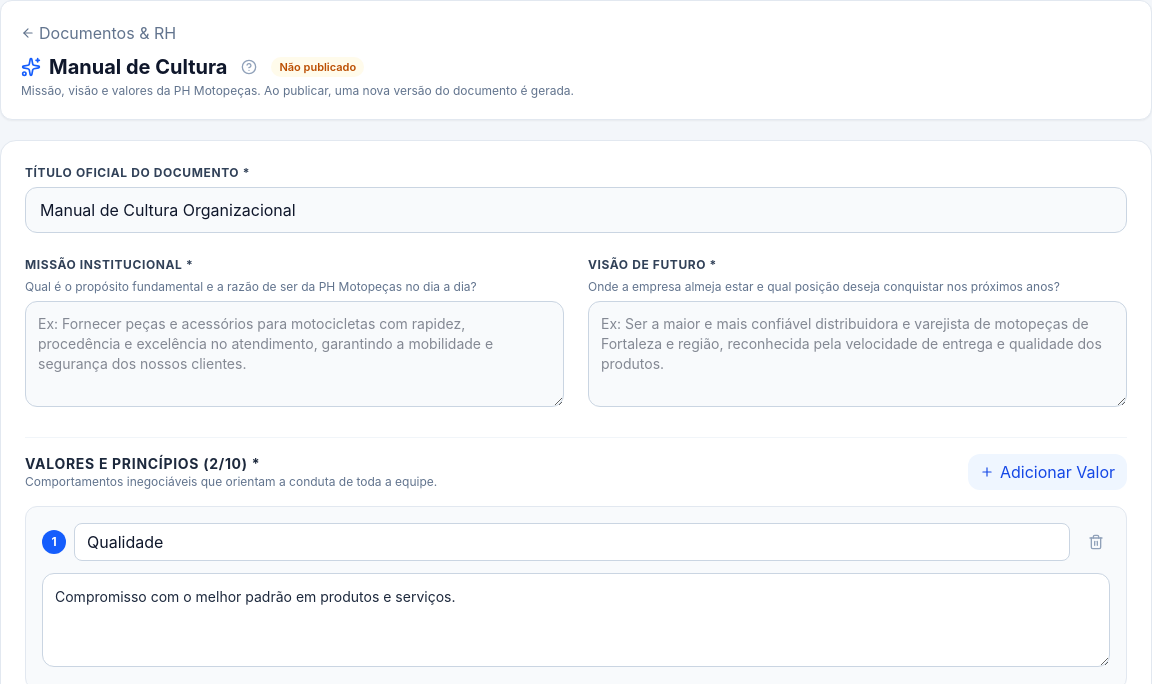
CultureDocumentPage › allows adding and removing institutional values in the form
The image size is (1152, 684).
Expected: the heading "Valores e Princípios (2/10) *" is shown, [25,455,260,472]
Click the button "Adicionar Valor".
click(1048, 472)  # box [968,454,1127,490]
(page scrolled)
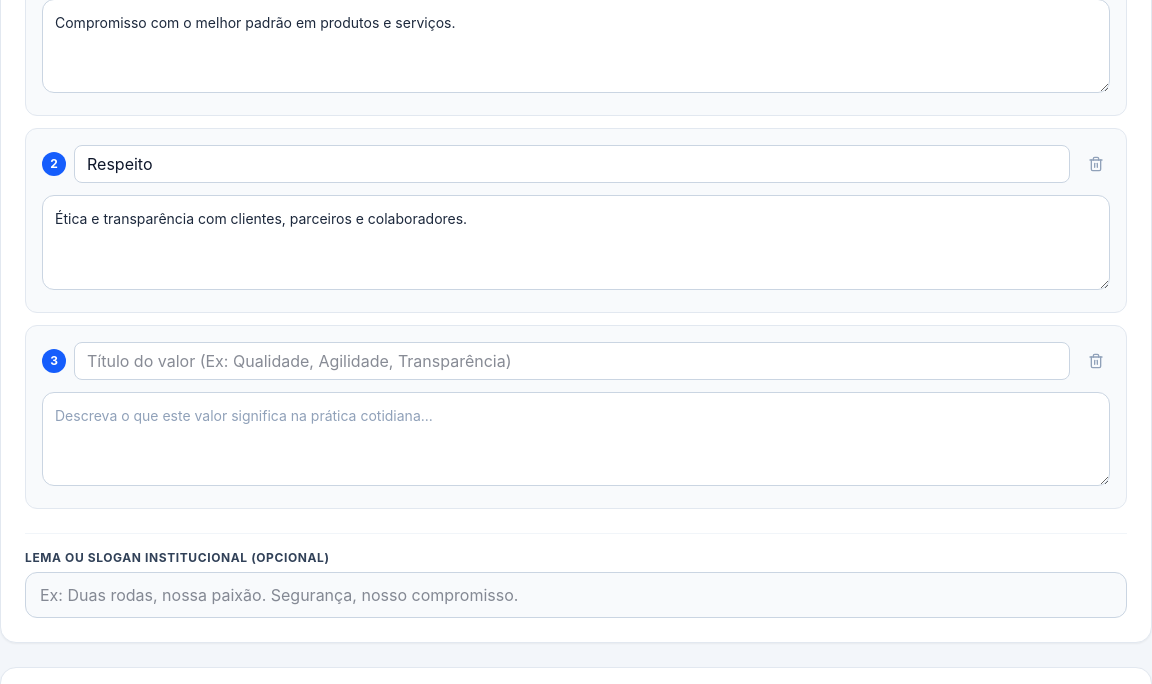
Expected: the text "3" is shown, [42,348,66,372]
